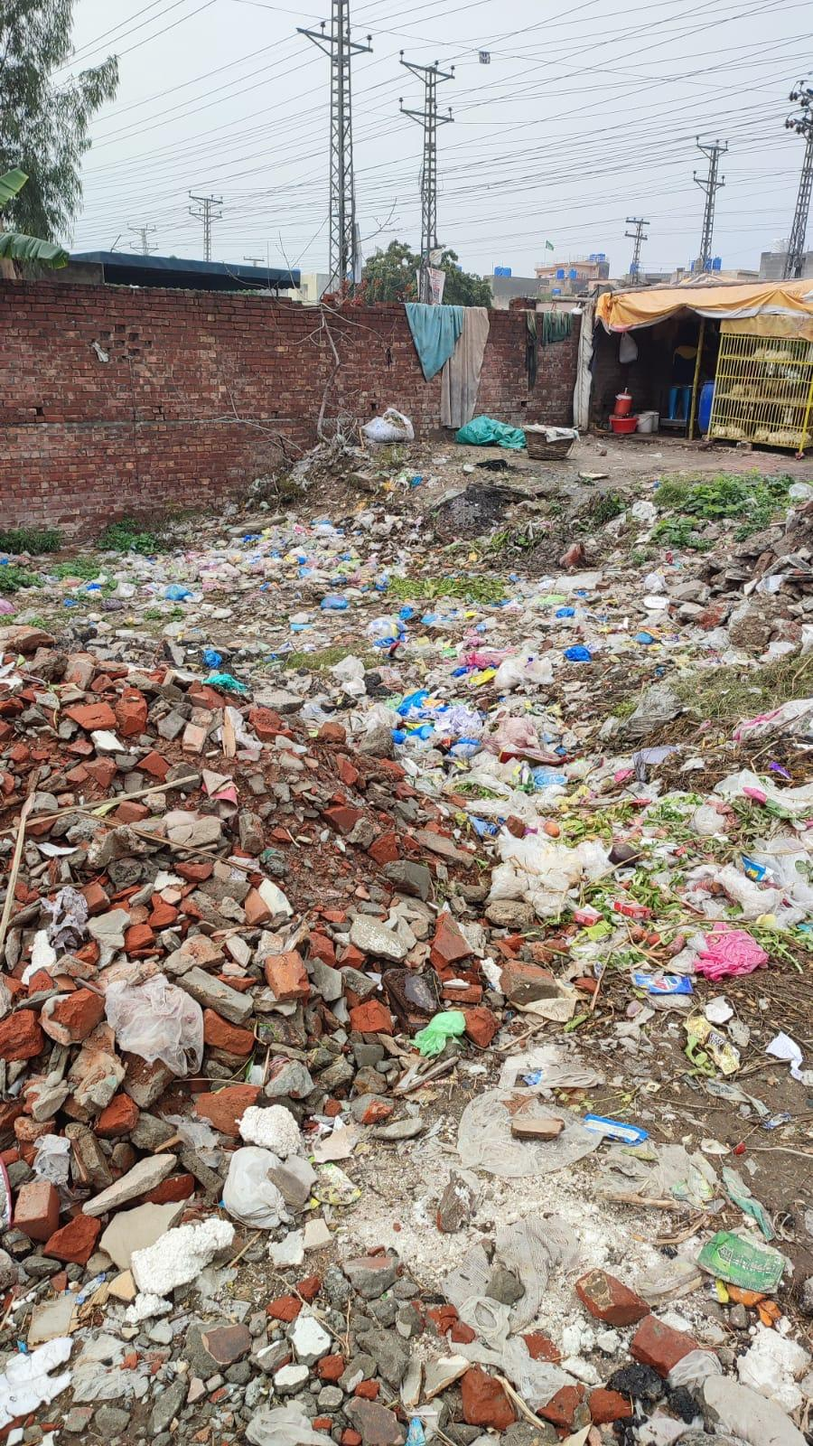garbage: (119, 492, 813, 1047)
